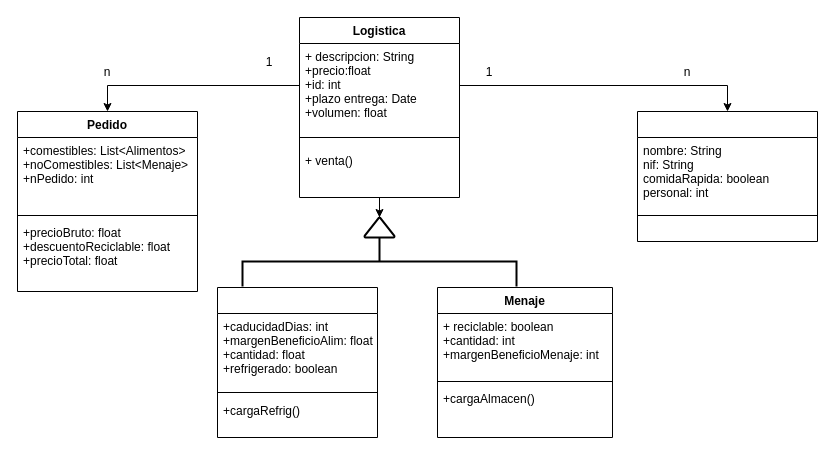
Image size: 835x458. Some labels were removed from this diagram. Here are the shapes that lost their labels. From the top down, the box of each, then its label:
(636, 110, 818, 242): Local
(216, 286, 378, 438): Alimentación
